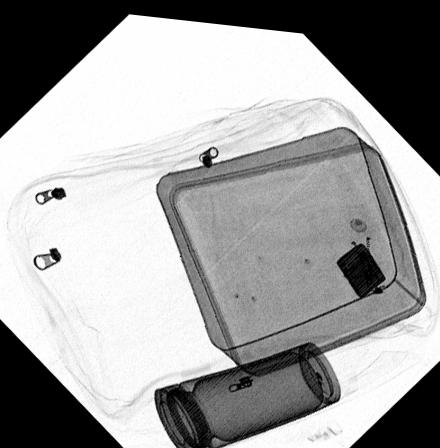Lighter: (332, 232, 385, 290)
